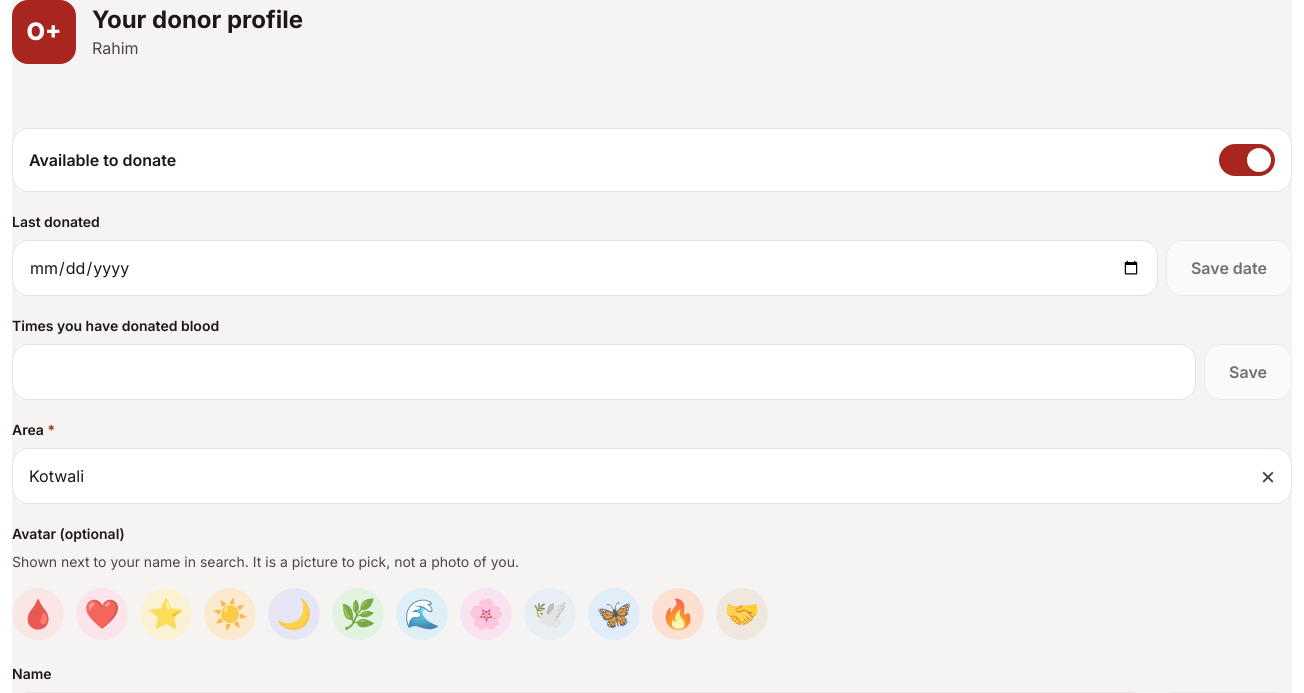
Test: F7: rapid changes › out-of-order responses end with the screen matching the server
Click the switch at x=103, y=160, box [12,128,1292,192]
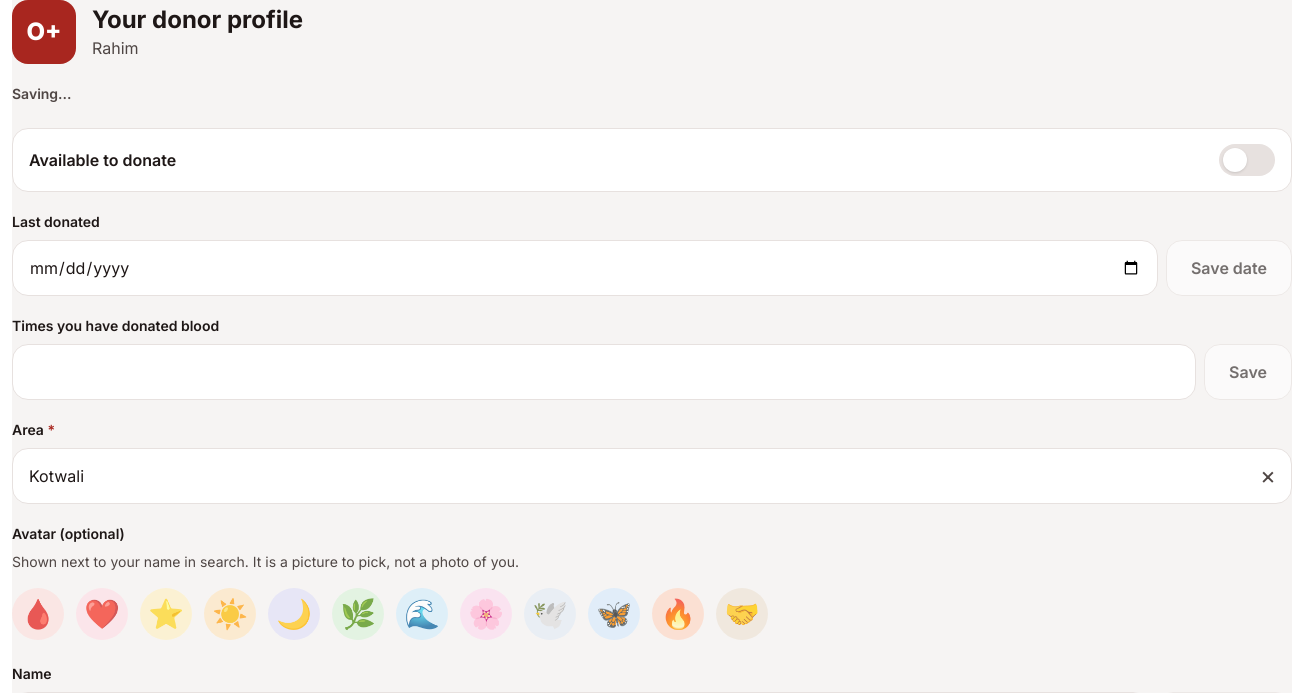
Click the switch at x=103, y=160, box [12,128,1292,192]
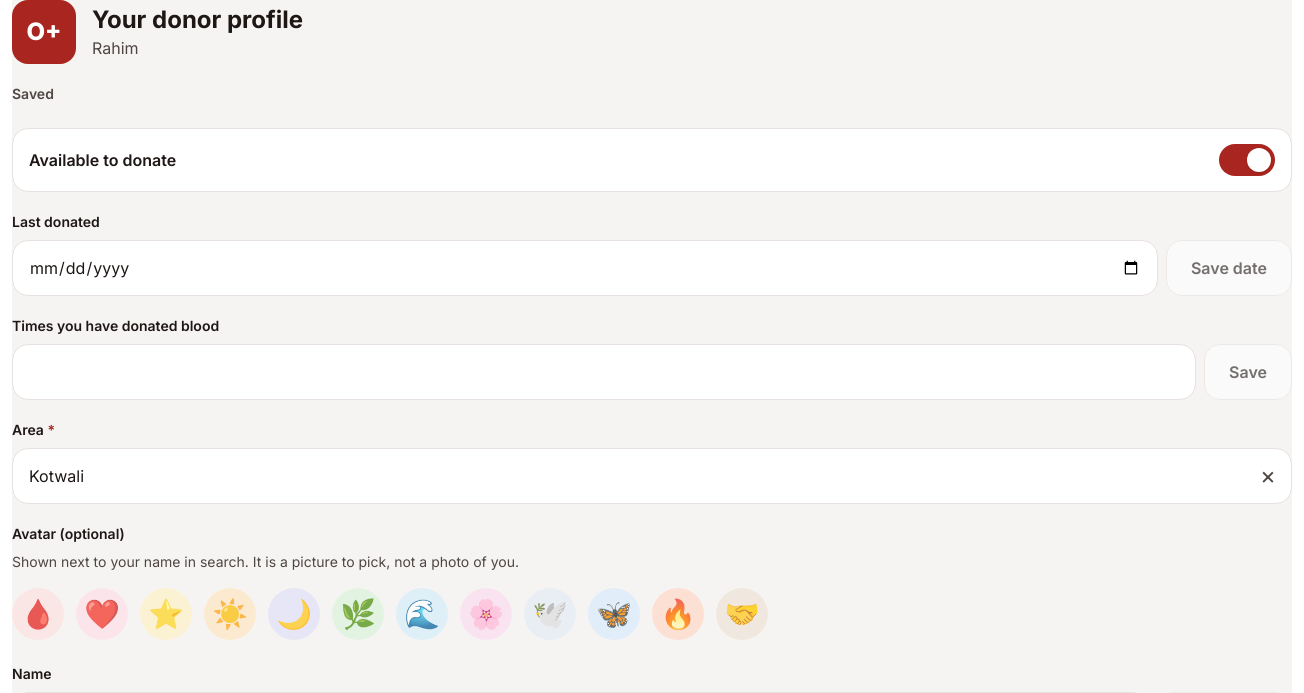
Expected: the switch is checked, [12,128,1292,192]
